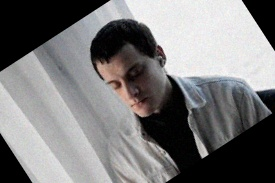earphone: (150, 43, 171, 68)
